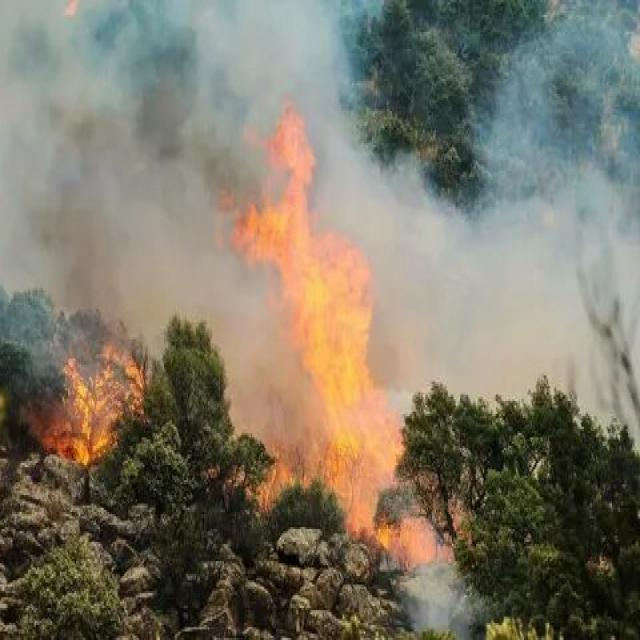Fire: (166, 97, 446, 572), (8, 312, 160, 500)
Smoke: (0, 11, 196, 312)
